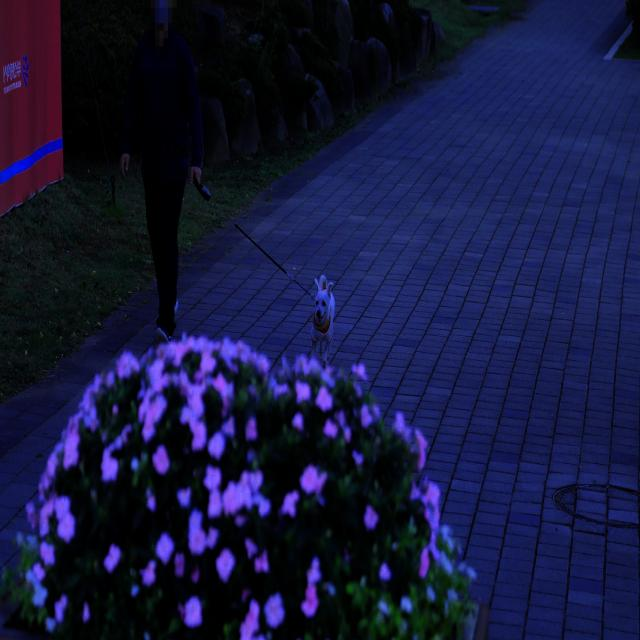Leashed_Dog: (164, 157, 334, 370)
